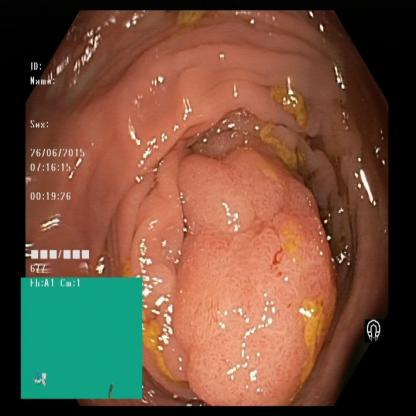Labels: (180, 152, 318, 402), (21, 277, 143, 398), (361, 310, 394, 355)
Polyps: (27, 60, 101, 276)
